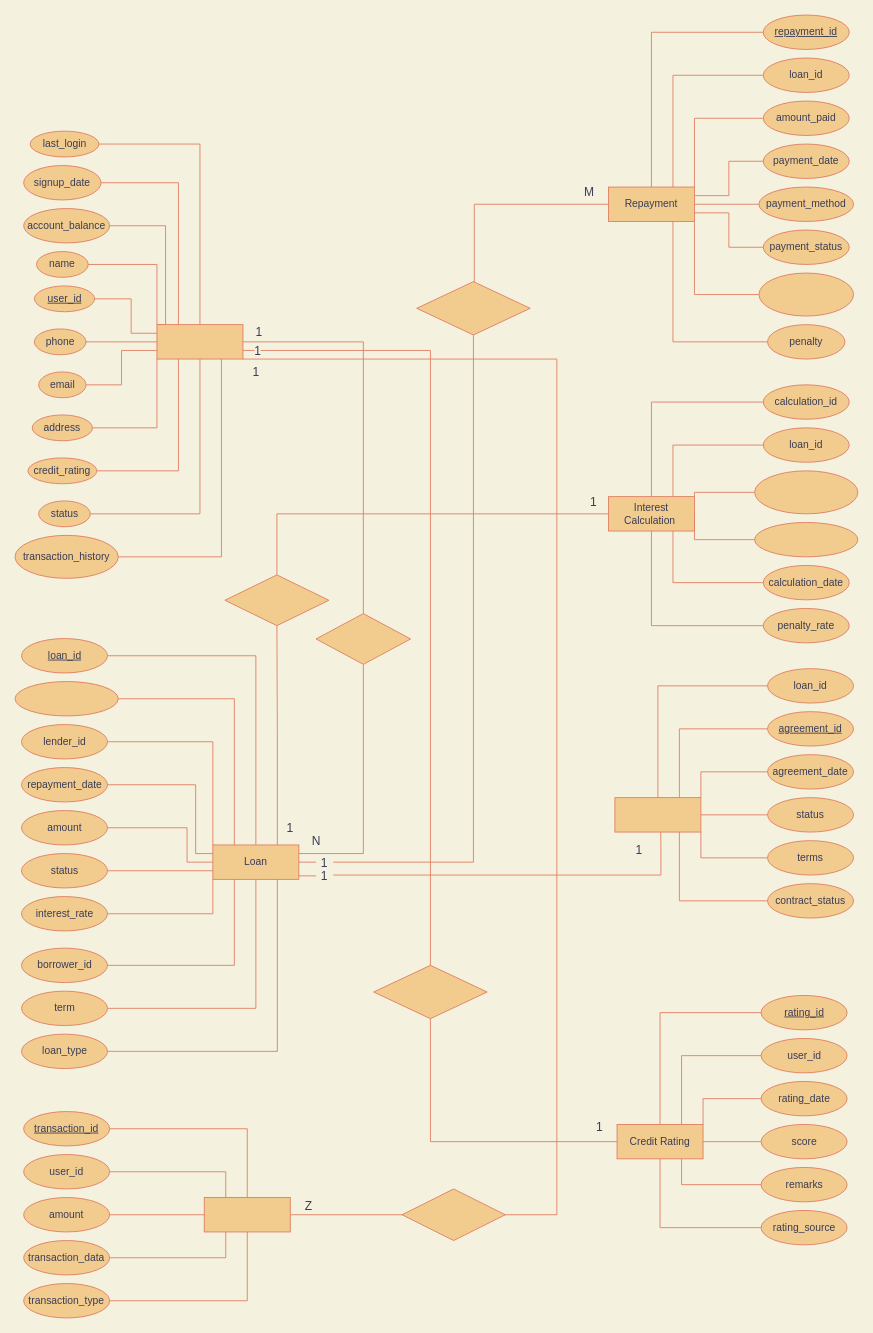
Image size: 873x1333. Some labels were removed from this diagram. Here are the shapes that lost their labels. From the top down, the centre of each, then its label:
the point at 473,308: Repays
the point at 806,294: remaining_balance
the point at 199,341: User
the point at 806,492: calculated_interest
the point at 806,539: total_amount_due
the point at 276,600: Calculates
the point at 363,638: Borrows
the point at 66,698: disbursement_date
the point at 657,814: Loan Agreement
the point at 430,991: Has Rating
the point at 246,1214: Transaction
the point at 453,1214: Executes
